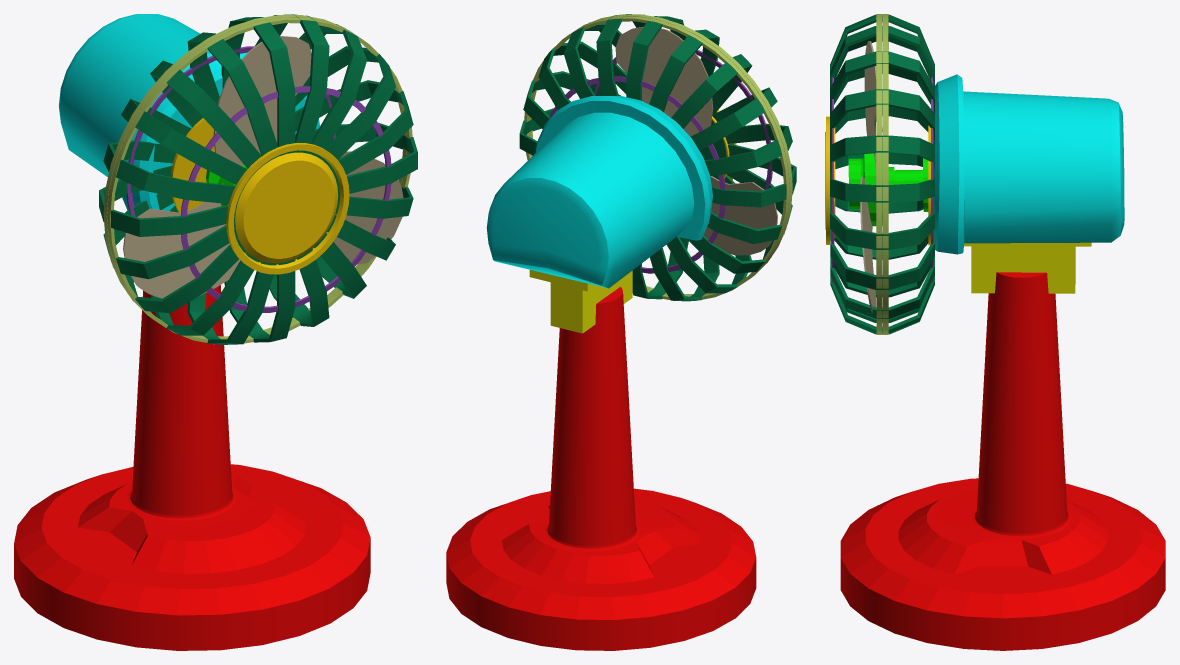
The model's file is table_fan.fbx.
3 renders of one model, left to right at view 1: azimuth 30°, elevation 25°; view 2: azimuth 150°, elevation 25°; view 3: azimuth 270°, elevation 25°, orthographic. The views are drawn at different scales.
Visible parts, largest first — view 1: fan_base, fan_enclosure, fan_outside, fan_neck, fan_blades1, fan_side_border1, fans_blades2, fan_outer_borders, fan_side_boarder2; view 2: fan_base, fan_neck, fan_enclosure, fan_blades1, fan_cube_lol, fan_side_boarder2, fans_blades2, fan_outer_borders, fan_side_border1; view 3: fan_base, fan_neck, fan_enclosure, fan_cube_lol, fan_side_boarder2, fan_side_border1, fan_wheel, fan_blades1, fan_outside, fan_outer_borders.
Part boxes in pixels (bbox=[...]): fan_base: bbox=[14, 285, 370, 650]; fan_enclosure: bbox=[99, 14, 417, 344]; fan_outside: bbox=[170, 118, 349, 274]; fan_neck: bbox=[59, 14, 319, 210]; fan_blades1: bbox=[213, 36, 403, 264]; fan_side_border1: bbox=[107, 17, 412, 344]; fans_blades2: bbox=[123, 183, 240, 298]; fan_outer_borders: bbox=[126, 46, 391, 312]; fan_side_boarder2: bbox=[103, 15, 406, 338]; fan_base: bbox=[446, 287, 756, 650]; fan_neck: bbox=[486, 96, 712, 288]; fan_enclosure: bbox=[519, 14, 796, 301]; fan_blades1: bbox=[615, 26, 713, 136]; fan_cube_lol: bbox=[529, 270, 632, 333]; fan_side_boarder2: bbox=[524, 16, 789, 300]; fans_blades2: bbox=[704, 176, 777, 255]; fan_outer_borders: bbox=[549, 50, 772, 273]; fan_side_border1: bbox=[529, 14, 792, 295]; fan_base: bbox=[840, 272, 1165, 650]; fan_neck: bbox=[934, 74, 1124, 254]; fan_enclosure: bbox=[830, 14, 934, 334]; fan_cube_lol: bbox=[964, 242, 1091, 293]; fan_side_boarder2: bbox=[882, 14, 888, 334]; fan_side_border1: bbox=[876, 14, 882, 334]; fan_wheel: bbox=[848, 153, 928, 226]; fan_blades1: bbox=[860, 41, 876, 312]; fan_outside: bbox=[825, 116, 930, 245]; fan_outer_borders: bbox=[831, 65, 933, 282].
Bounding box in the file's own units: 2 × 3.73 × 2.08.
